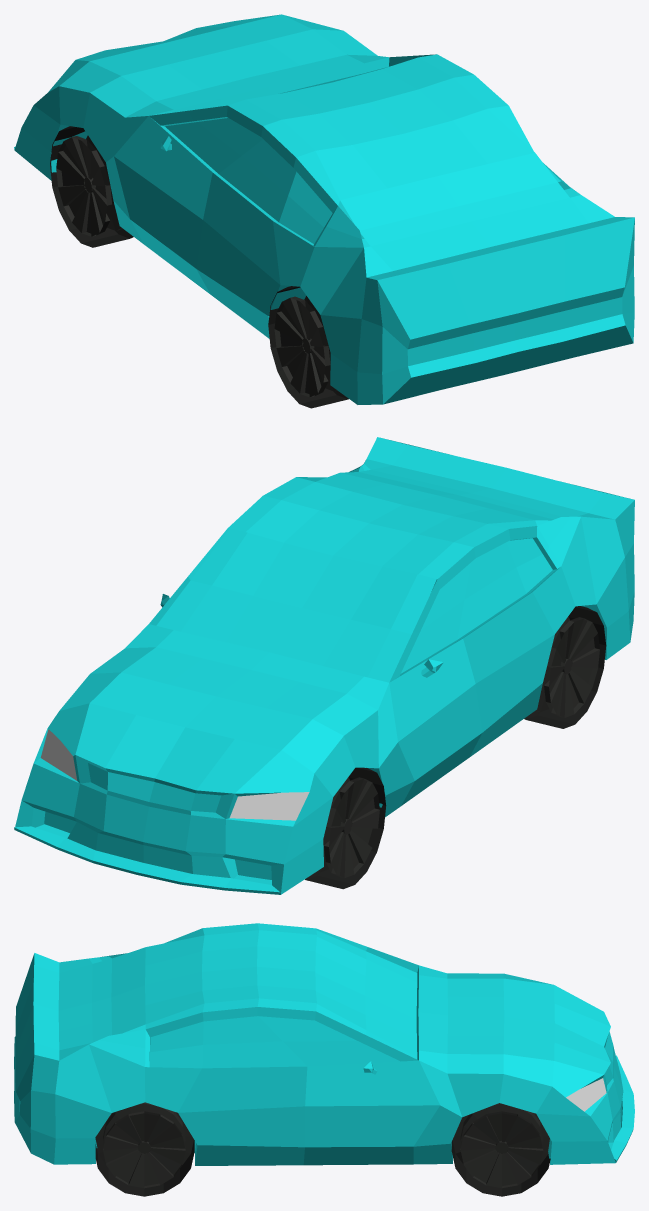
File: Autó.fbx
3 views of the same model, one above another, from view 1: azimuth 30°, elevation 25°; view 2: azimuth 150°, elevation 25°; view 3: azimuth 270°, elevation 25° (orthographic). The views are drawn at different scales.
Visible parts, largest first — view 1: Cube, Circle.002, Circle.004; view 2: Cube, Circle.004, Circle.002; view 3: Cube, Circle.003a, Circle.001.
Boxes of the visible parts, left/top/right/bottom form: Cube: left=14, top=14, right=634, bottom=404; Circle.002: left=50, top=126, right=133, bottom=247; Circle.004: left=268, top=286, right=348, bottom=408; Cube: left=14, top=437, right=634, bottom=894; Circle.004: left=524, top=606, right=606, bottom=728; Circle.002: left=305, top=767, right=386, bottom=889; Cube: left=14, top=923, right=634, bottom=1165; Circle.003a: left=95, top=1102, right=194, bottom=1196; Circle.001: left=451, top=1103, right=550, bottom=1196.
Size of the model in its own units: 198 by 146 by 459.
